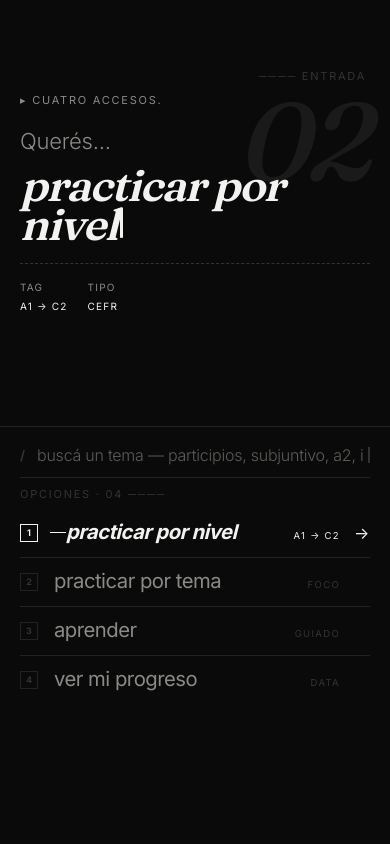
Test: TopicSearch in StepView › offers suggestions instead of a dead end when nothing matches
In the dropdown: (200, 455) x1=37 y1=443 x2=364 y2=467, type "zzzqqq"
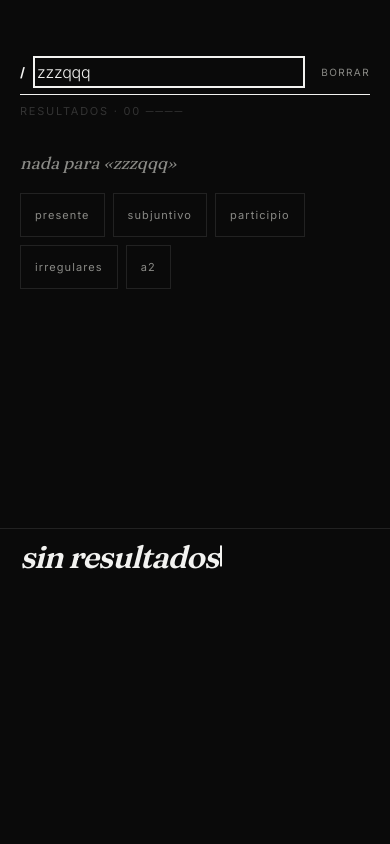
Check: the text "nada para «zzzqqq»" is shown, box x1=20 y1=152 x2=176 y2=172
Check: the button "subjuntivo" is shown, box x1=112 y1=193 x2=207 y2=237
